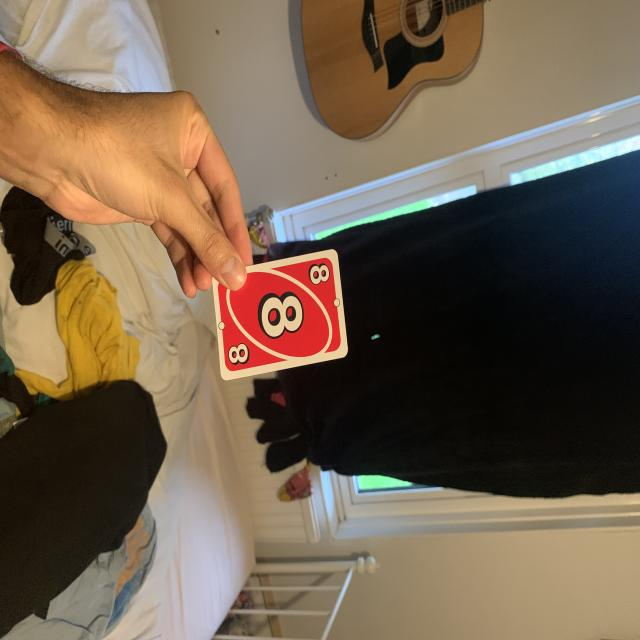lred-8: (304, 259, 334, 290)
